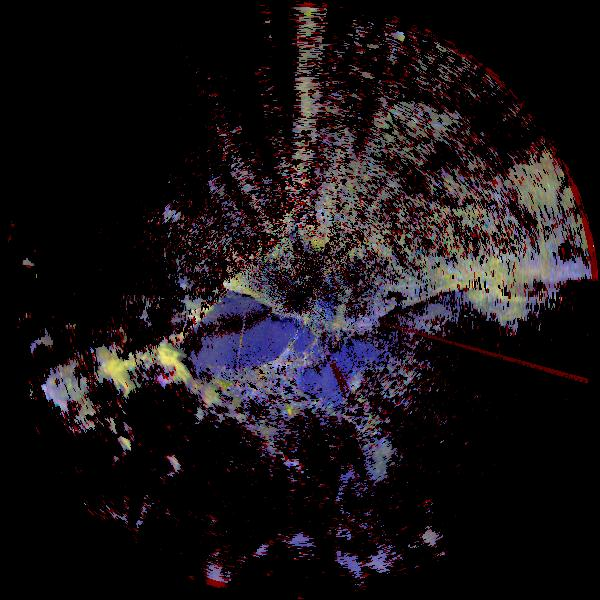roost: (6, 249, 42, 285)
